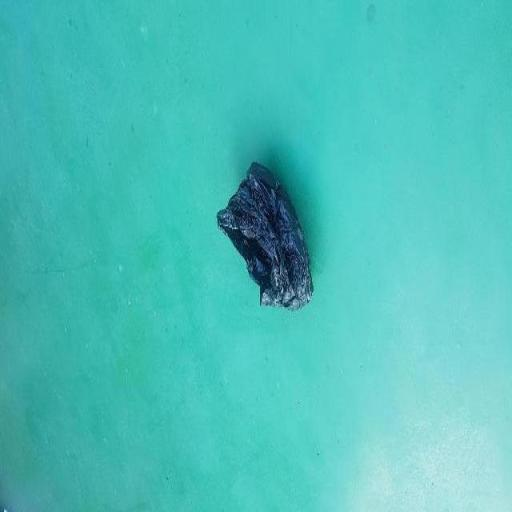plastic-bag: (214, 158, 314, 310)
